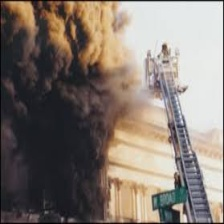smoke: (3, 5, 130, 213)
